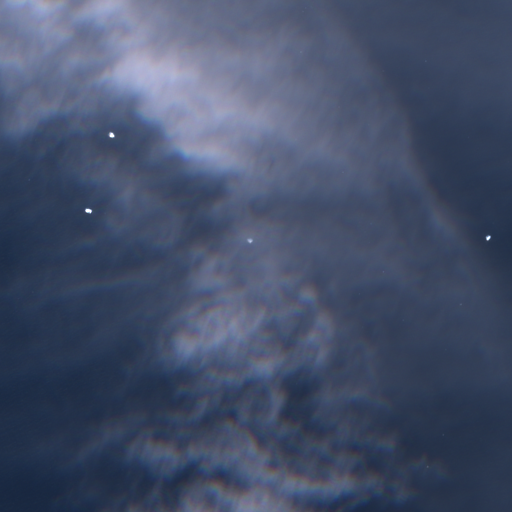Iceberg: (85, 208, 92, 213), (108, 132, 114, 137), (486, 235, 490, 240), (247, 239, 252, 242)
